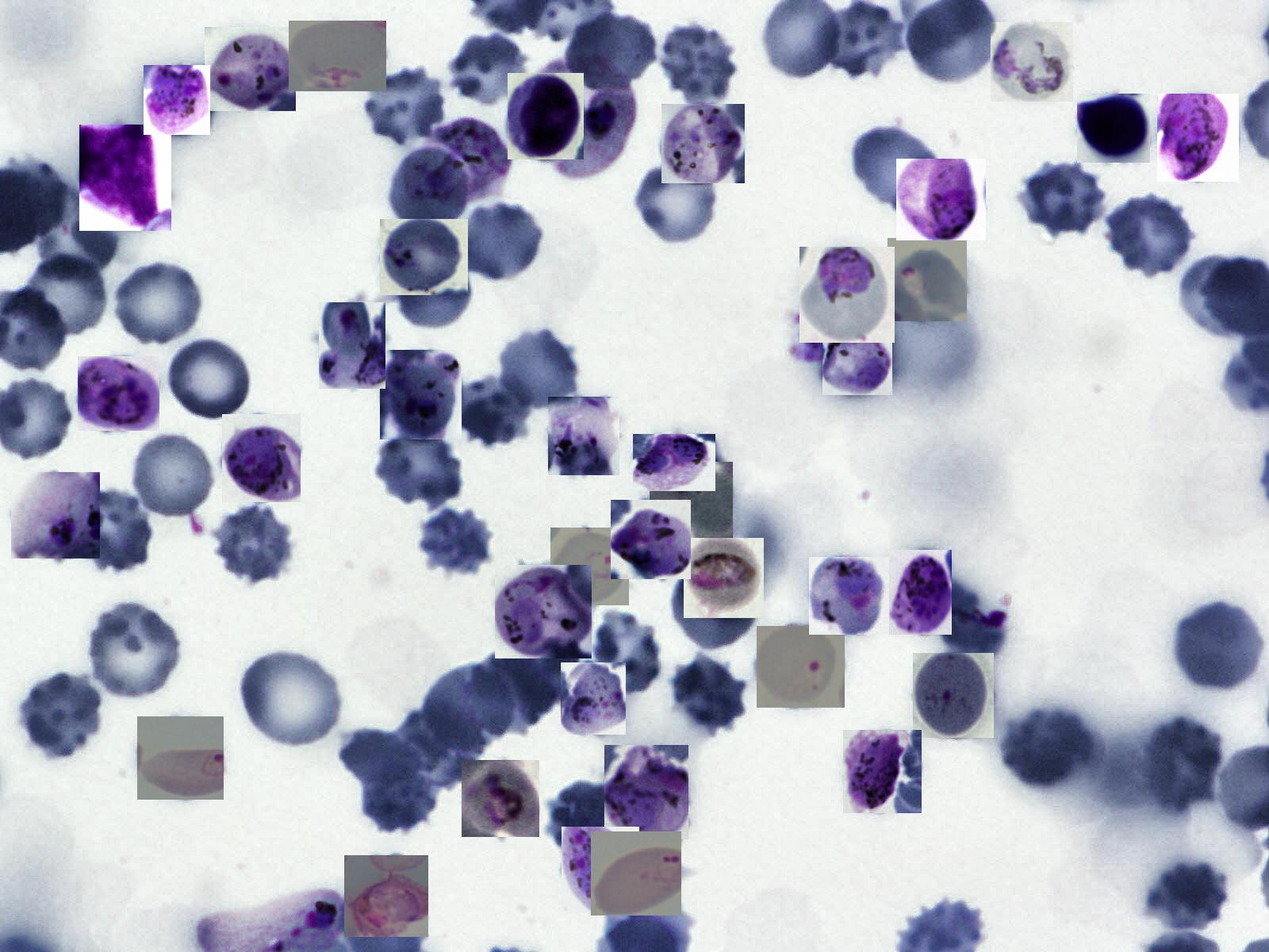Infected: (536, 60, 634, 176), (79, 125, 171, 231), (799, 247, 895, 343), (495, 565, 592, 658), (409, 117, 511, 204), (604, 745, 688, 839), (12, 472, 100, 559), (592, 831, 682, 916), (205, 27, 296, 111), (380, 350, 462, 440), (137, 716, 224, 800), (896, 159, 986, 240), (1157, 94, 1239, 182), (757, 626, 845, 708), (222, 414, 301, 502), (344, 855, 428, 937), (913, 653, 994, 738), (289, 21, 387, 91), (380, 219, 468, 295), (661, 104, 745, 183), (562, 827, 639, 913), (991, 22, 1073, 102), (843, 730, 922, 813), (888, 239, 967, 322), (508, 73, 584, 159), (684, 538, 764, 618), (611, 500, 691, 579), (650, 462, 733, 538), (809, 557, 889, 635), (550, 528, 629, 605), (78, 356, 159, 431), (462, 760, 539, 837), (319, 302, 385, 389), (548, 397, 619, 475), (889, 550, 952, 635), (1077, 94, 1150, 163), (561, 662, 626, 735), (822, 328, 892, 395), (633, 434, 715, 491), (144, 65, 210, 135)
Uninfected: (241, 653, 341, 747), (1168, 600, 1265, 695), (847, 121, 946, 213), (90, 602, 180, 699), (33, 182, 119, 282), (1137, 713, 1224, 809), (388, 144, 477, 236), (424, 665, 514, 752), (373, 424, 466, 507), (16, 672, 102, 761), (454, 201, 546, 284), (656, 19, 742, 106), (397, 706, 484, 791), (493, 328, 581, 412), (567, 12, 661, 89), (64, 490, 152, 570), (470, 650, 551, 736), (669, 570, 758, 648), (1001, 709, 1090, 787), (117, 261, 199, 345), (544, 781, 630, 861), (1018, 159, 1108, 235), (666, 654, 750, 735), (1108, 195, 1193, 275), (636, 155, 715, 241), (24, 255, 107, 336), (816, 2, 904, 78), (389, 247, 470, 329), (168, 340, 251, 420), (363, 63, 442, 147), (134, 435, 213, 516), (213, 506, 293, 582), (449, 374, 531, 447), (590, 611, 662, 694), (1138, 858, 1225, 924), (362, 762, 438, 835), (512, 620, 580, 696), (450, 36, 527, 103), (419, 506, 492, 574)
